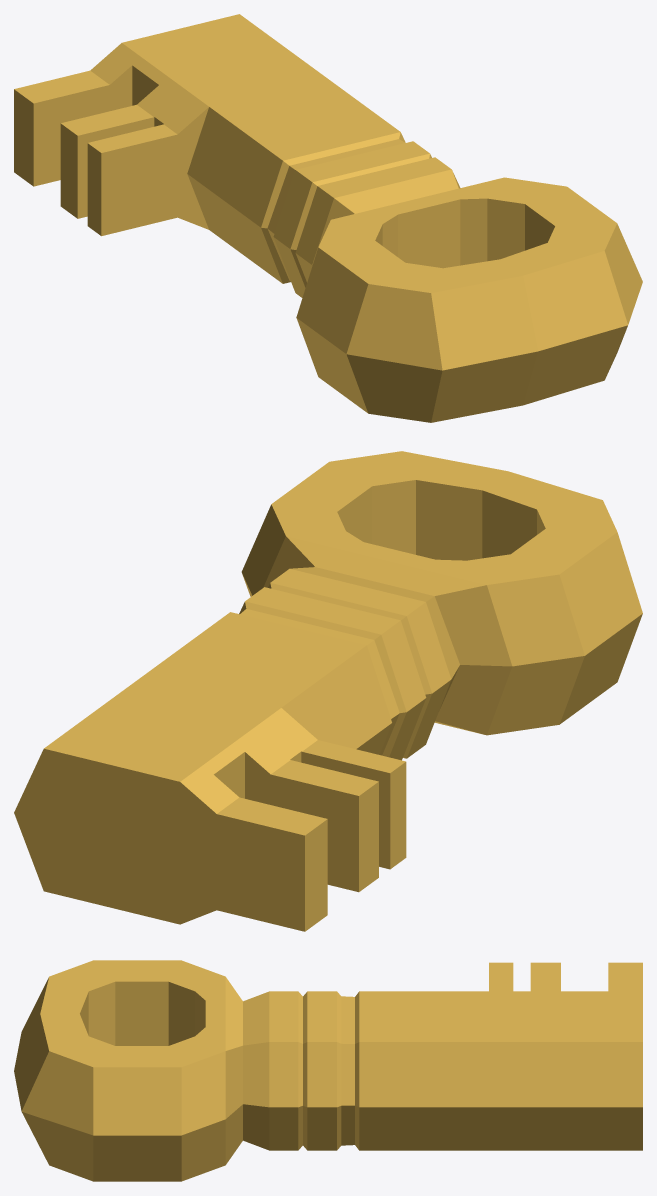
Rendered from key.fbx.
The picture shows the model from 3 angles, top to bottom: view 1: azimuth 30°, elevation 25°; view 2: azimuth 150°, elevation 25°; view 3: azimuth 270°, elevation 25°; orthographic projection. The views are drawn at different scales.
Visible parts, largest first — view 1: Cube; view 2: Cube; view 3: Cube.
Part boxes in pixels (x1,y1,x2,y2): Cube: (14, 14, 642, 422); Cube: (14, 451, 642, 931); Cube: (14, 960, 642, 1181).
Bounding box in the file's own units: 365 × 143 × 713.
